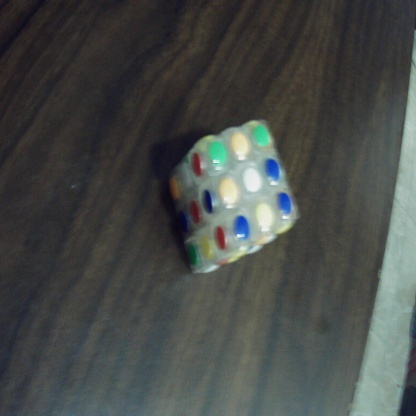Rubix Cube: (173, 118, 304, 280)
